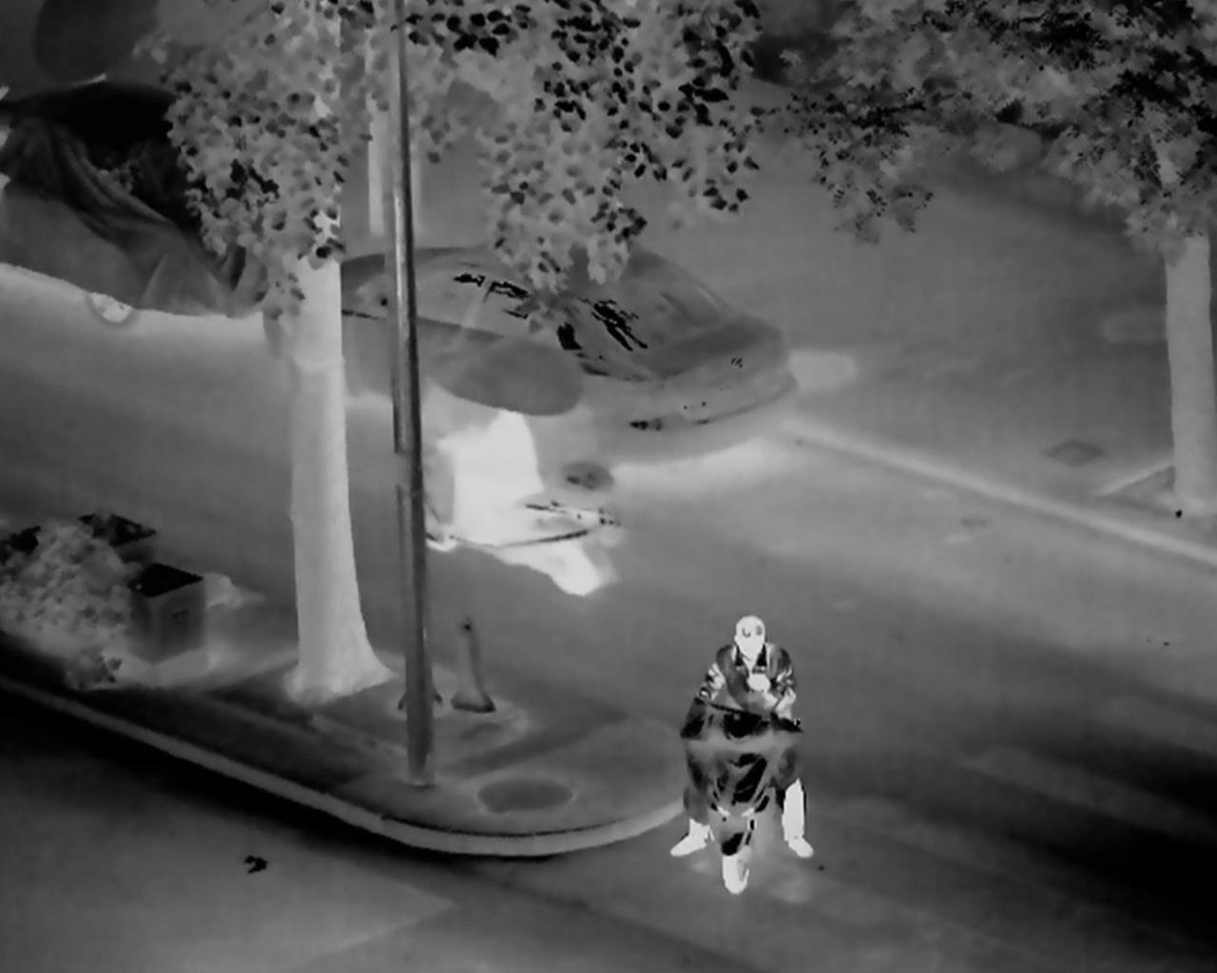person: (686, 619, 814, 887), (446, 391, 550, 545)
